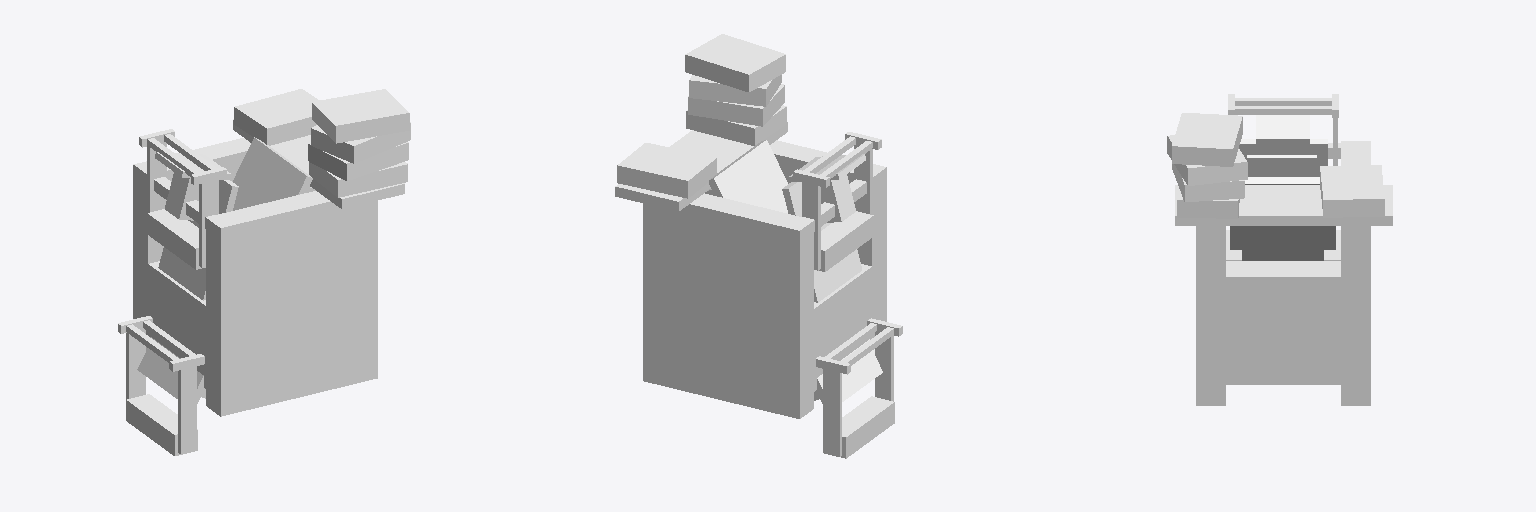
The model's file is printpress.obj.
3 views of the same model, side by side, from view 1: azimuth 30°, elevation 25°; view 2: azimuth 150°, elevation 25°; view 3: azimuth 270°, elevation 25° (orthographic).
Visible parts, largest first — view 1: press, arm, arm_item, book4, bed_item, bookBlue, book2, book3, book1, bed; view 2: press, arm, arm_item, book4, bookBlue, bed_item, book2, book1, book3, bed; view 3: press, bed_item, book4, bookBlue, arm_item, plate, book3, book2, book1.
Part boxes in pixels (x1,y1,x2,y2): press: (133,119,404,416); arm: (118,316,204,455); arm_item: (139,129,226,269); book4: (312,89,409,143); bed_item: (233,137,315,210); bookBlue: (234,89,319,145); book2: (308,142,408,180); book3: (311,122,410,163); book1: (309,162,407,197); bed: (137,337,205,403); press: (615,122,886,418); arm: (816,318,902,458); arm_item: (793,132,881,271); book4: (685,34,785,91); bookBlue: (617,143,716,198); bed_item: (705,140,787,213); book2: (688,84,784,126); book1: (686,105,786,145); book3: (689,75,781,106); bed: (814,339,882,403); press: (1175,115,1392,405); bed_item: (1230,177,1335,260); book4: (1172,113,1242,166); bookBlue: (1320,165,1384,217); arm_item: (1228,94,1338,165); plate: (1247,155,1316,176); book3: (1167,135,1247,185); book2: (1172,164,1244,201); book1: (1177,186,1239,218).
Size of the model in its own units: 1.15 by 1.6 by 1.03.